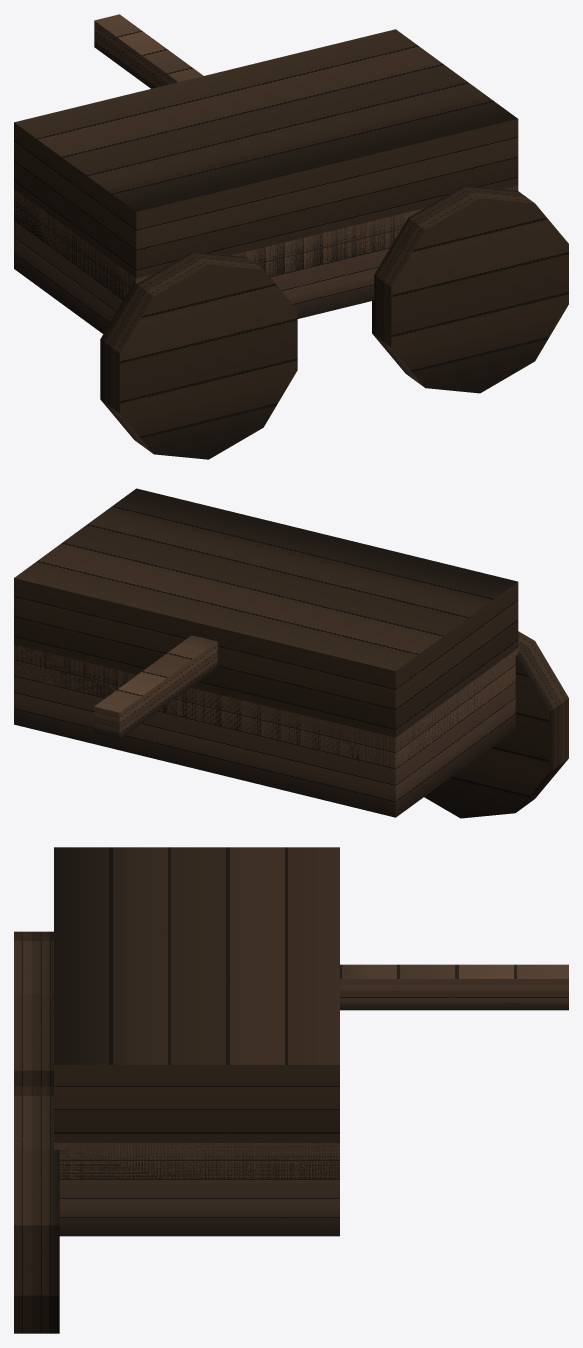
File: cart.gltf
The picture shows the model from 3 angles, top to bottom: view 1: azimuth 30°, elevation 25°; view 2: azimuth 150°, elevation 25°; view 3: azimuth 270°, elevation 25°; orthographic projection. The views are drawn at different scales.
Visible parts, largest first — view 1: cart; view 2: cart; view 3: cart.
Part boxes in pixels (left/top/right/bottom): cart: left=14, top=14, right=568, bottom=459; cart: left=14, top=488, right=568, bottom=818; cart: left=14, top=847, right=568, bottom=1333.
Bounding box in the file's own units: 1.06 × 0.56 × 0.97.
1 material, 1 textured.
